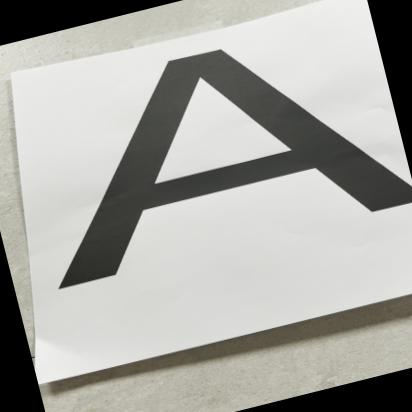seat: (0, 0, 412, 318)
